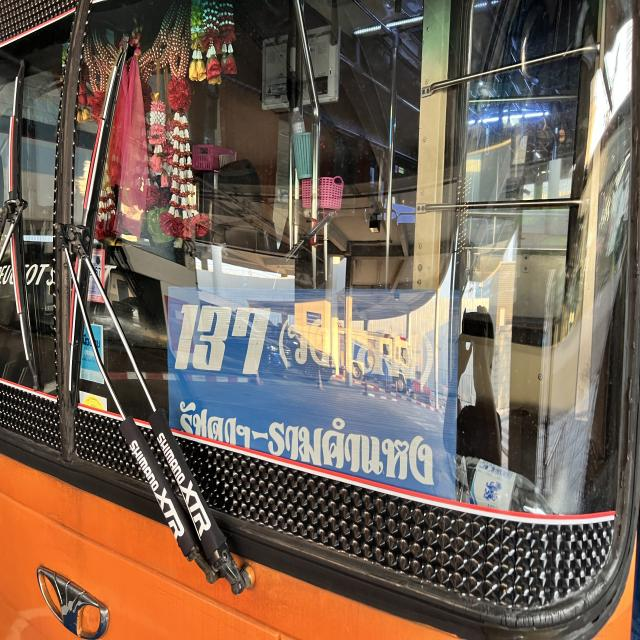BMTA-bus: (0, 0, 640, 640)
Destination-Sign-Normal: (167, 288, 457, 505)
